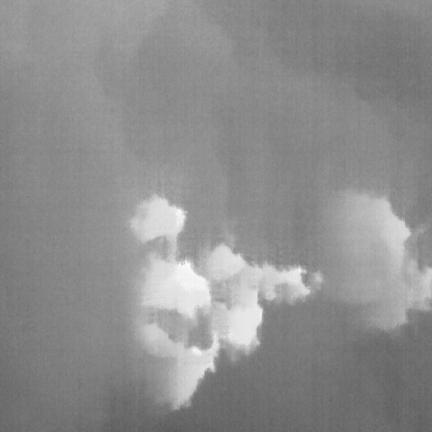flukeprints: (142, 256, 210, 318), (130, 195, 185, 243), (220, 304, 262, 348), (207, 244, 246, 280)
